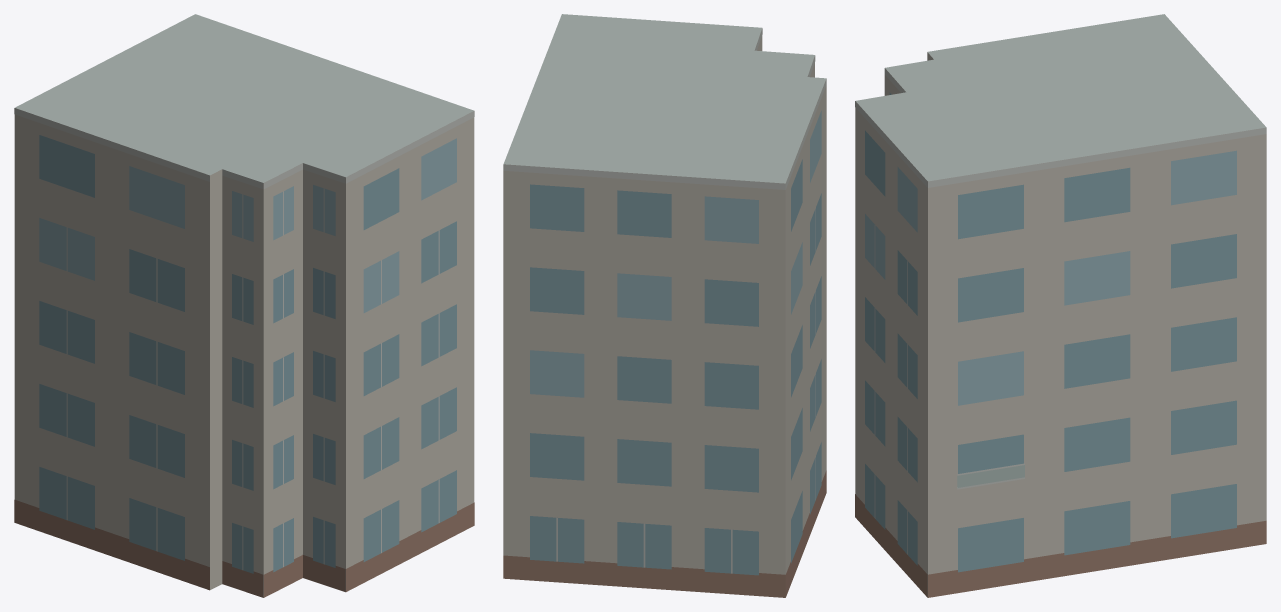
File: survey-upis-32853668.glb
The picture shows the model from 3 angles, left to right: view 1: azimuth 30°, elevation 25°; view 2: azimuth 150°, elevation 25°; view 3: azimuth 270°, elevation 25°; orthographic projection.
Visible parts, largest first — view 1: survey-upis-32853668.tmp; view 2: survey-upis-32853668.tmp; view 3: survey-upis-32853668.tmp.
Part boxes in pixels (<box>): survey-upis-32853668.tmp: <box>14,14,474,597</box>; survey-upis-32853668.tmp: <box>503,14,826,597</box>; survey-upis-32853668.tmp: <box>855,14,1266,597</box>.
Size of the model in its own units: 13.47 by 15.6 by 13.98.
